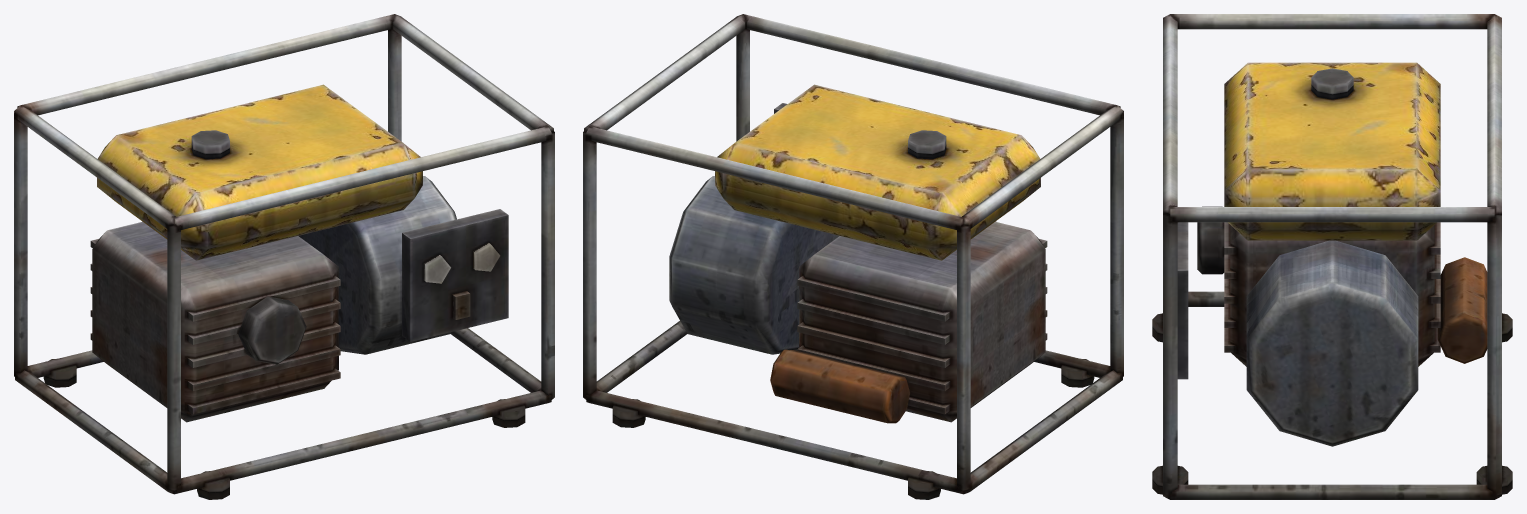
File: gerador.glb
The picture shows the model from 3 angles, left to right: view 1: azimuth 30°, elevation 25°; view 2: azimuth 150°, elevation 25°; view 3: azimuth 270°, elevation 25°; orthographic projection. The views are drawn at different scales.
Parts seen in each view (by area): view 1: gerador; view 2: gerador; view 3: gerador.
Part boxes in pixels (box(x1,y1,x2,y2)): gerador: box(14, 14, 554, 499); gerador: box(583, 14, 1123, 499); gerador: box(1152, 14, 1512, 499).
Size of the model in its own units: 0.788 by 0.554 by 0.6.
Materials: 1 (1 with a texture image).
